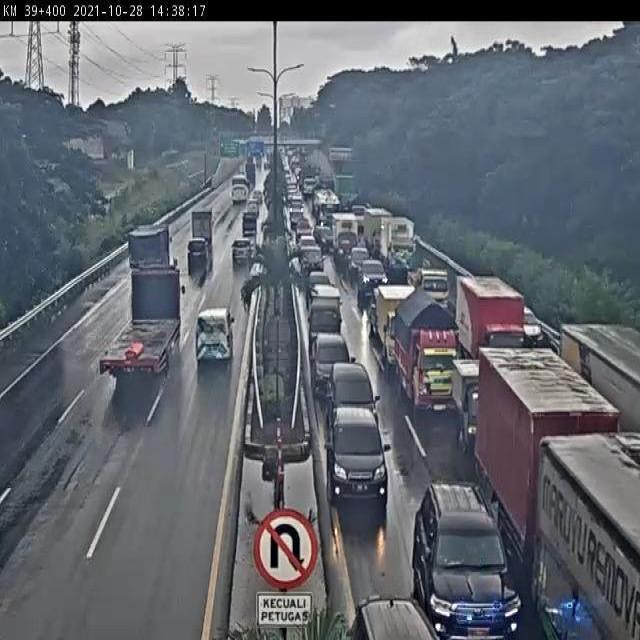car: (403, 473, 528, 640), (319, 400, 407, 513), (348, 580, 442, 640), (324, 362, 387, 434), (308, 332, 355, 401), (195, 304, 240, 372), (356, 259, 388, 300), (228, 236, 258, 271), (187, 233, 212, 271)
truck: (472, 347, 628, 565), (532, 440, 640, 640), (91, 264, 189, 385), (553, 304, 640, 439), (392, 291, 469, 424), (456, 270, 531, 374), (374, 283, 417, 369), (123, 227, 178, 279), (378, 213, 421, 276), (190, 208, 215, 245), (237, 208, 261, 237)
